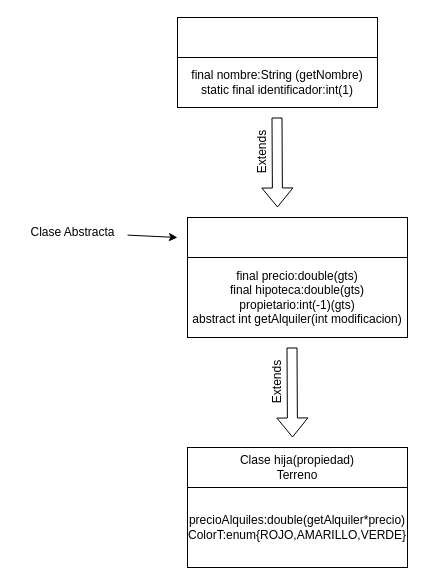
The diagram is 425 pixels wide and 585 high, and some of its shapes have lost their labels. The centre of each missing label's shape, as x and y in pixels:
"Clase hija Propiedad" belongs at point (297, 237).
"Clase padre Casilla" belongs at point (277, 37).
